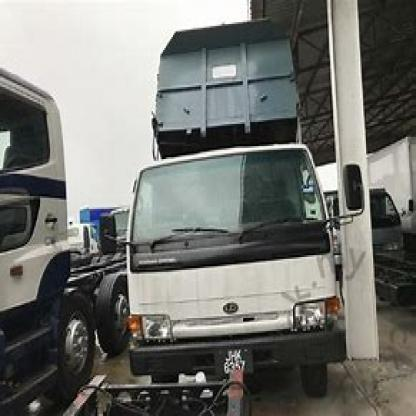dump_truck: (116, 20, 356, 402)
